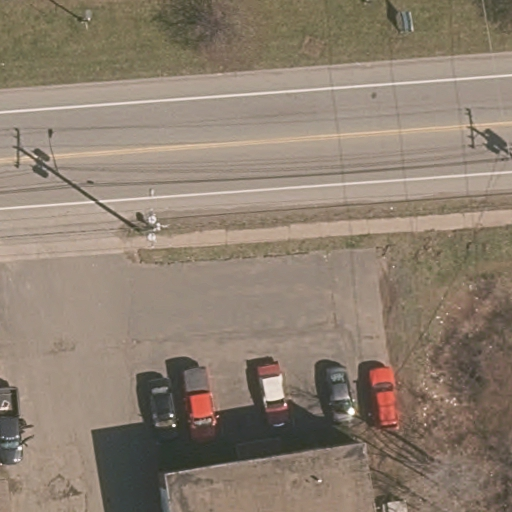DT: (116, 183, 175, 248)
